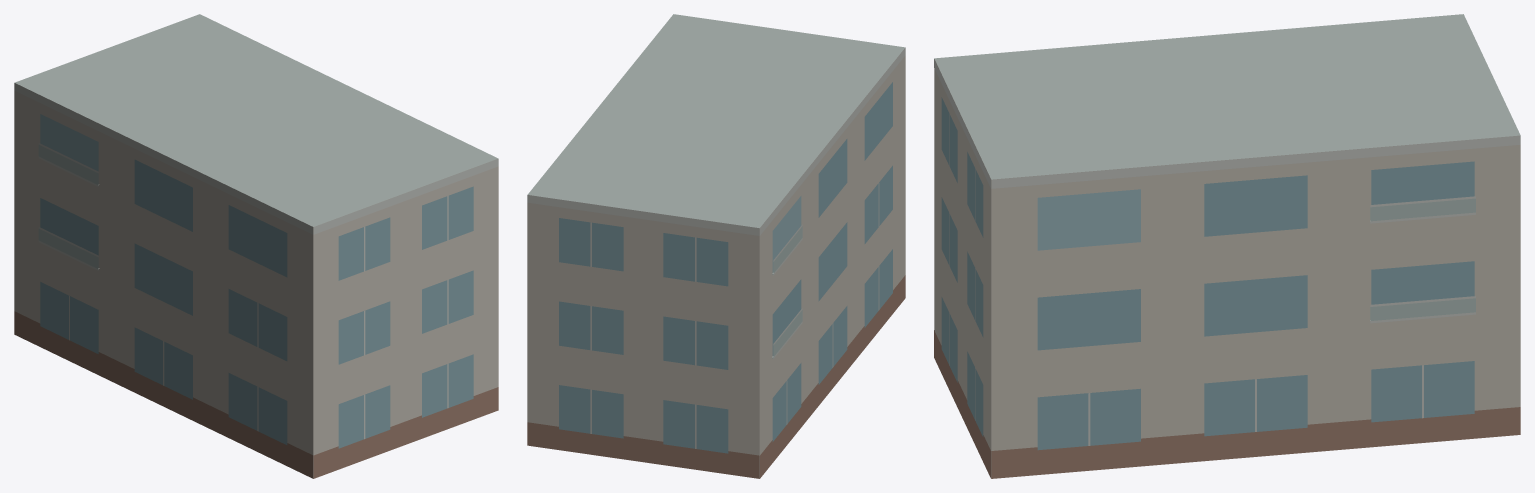
Rendered from survey-upis-32809010.glb.
The picture shows the model from 3 angles, left to right: view 1: azimuth 30°, elevation 25°; view 2: azimuth 150°, elevation 25°; view 3: azimuth 270°, elevation 25°; orthographic projection. The views are drawn at different scales.
Visible parts, largest first — view 1: survey-upis-32809010.tmp; view 2: survey-upis-32809010.tmp; view 3: survey-upis-32809010.tmp.
Part boxes in pixels (x1,y1,x2,y2): survey-upis-32809010.tmp: (14,14,498,478); survey-upis-32809010.tmp: (527,14,905,478); survey-upis-32809010.tmp: (934,14,1520,478).
Bounding box in the file's own units: 9.32 × 7.85 × 13.95.
